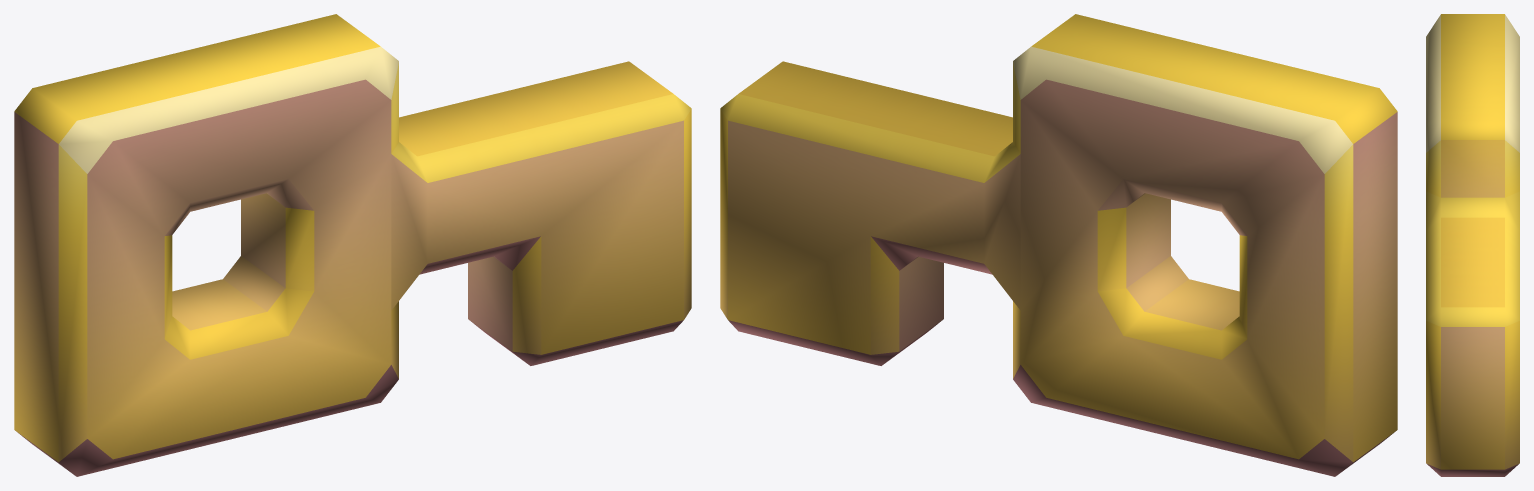
Rendered from key_gold.fbx.
3 views of the same model, side by side, from view 1: azimuth 30°, elevation 25°; view 2: azimuth 150°, elevation 25°; view 3: azimuth 270°, elevation 25° (orthographic). The views are drawn at different scales.
Parts seen in each view (by area): view 1: key_gold; view 2: key_gold; view 3: key_gold.
Boxes of the visible parts, x1,y1,x2,y2 form: key_gold: (14, 14, 691, 476); key_gold: (720, 14, 1397, 476); key_gold: (1426, 14, 1519, 476).
Bounding box in the file's own units: 139 × 75 × 25.
